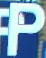Parking: (5, 2, 43, 57)
